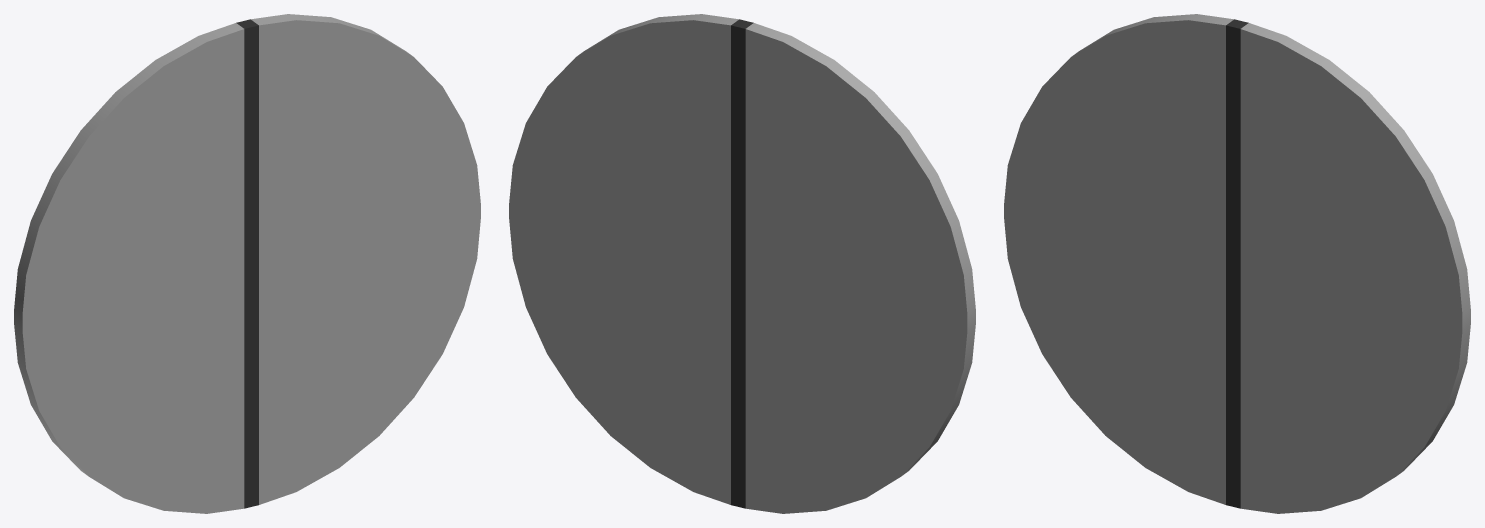
File: House Door.glb
3 renders of one model, left to right at view 1: azimuth 30°, elevation 25°; view 2: azimuth 150°, elevation 25°; view 3: azimuth 330°, elevation 25°, orthographic.
Parts seen in each view (by area): view 1: House_Door; view 2: House_Door; view 3: House_Door.
Part boxes in pixels (box(x1,y1,x2,y2)): House_Door: box(14, 14, 480, 513); House_Door: box(509, 14, 975, 513); House_Door: box(1004, 14, 1470, 513).
Bounding box in the file's own units: 2.03 × 2.03 × 0.0642.
Materials: 1 (1 with a texture image).
